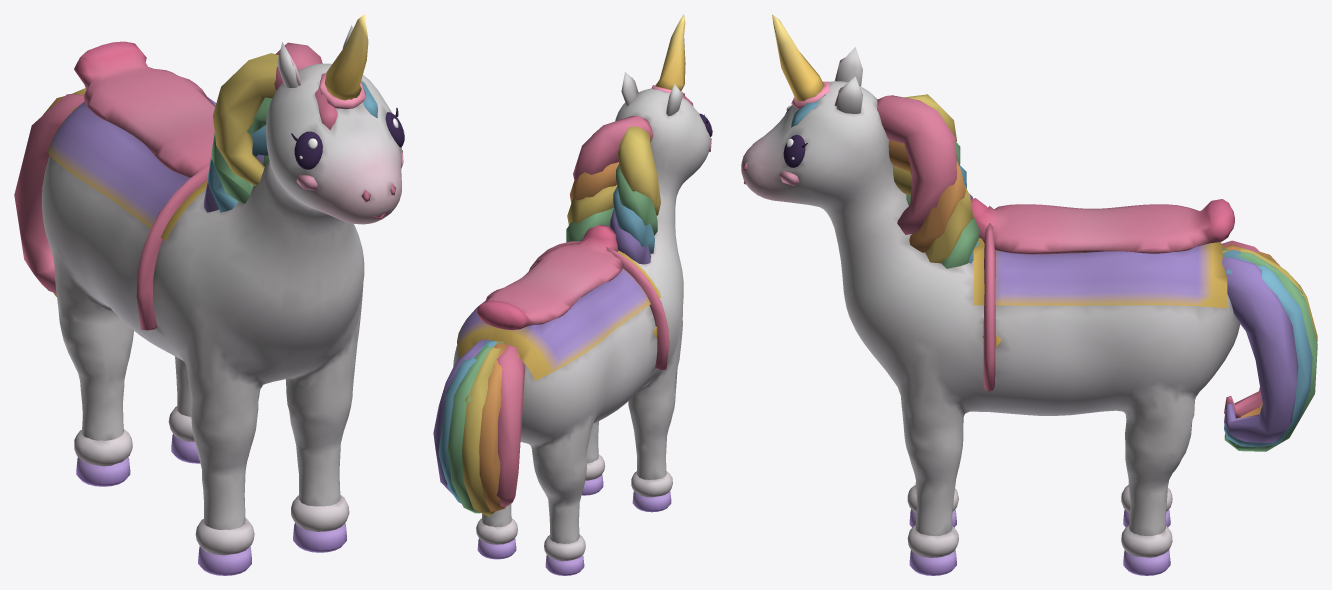
Rendered from veh_unicorn.glb.
The picture shows the model from 3 angles, left to right: view 1: azimuth 30°, elevation 25°; view 2: azimuth 150°, elevation 25°; view 3: azimuth 270°, elevation 25°; orthographic projection. The views are drawn at different scales.
Parts seen in each view (by area): view 1: SM_veh_unicorn_bob, SM_veh_unicorn_bob_cloth, SM_veh_unicorn_mane_0, SM_veh_unicorn_tail_0, SM_veh_unicorn_head_metal, SM_veh_unicorn_head, SM_veh_unicorn_knee_2, SM_veh_unicorn_knee_0, SM_veh_unicorn_knee_1, SM_veh_unicorn_mane_1, SM_veh_unicorn_head_gloss_eyes, SM_veh_unicorn_knee_2_gloss (+6 smaller); view 2: SM_veh_unicorn_bob, SM_veh_unicorn_bob_cloth, SM_veh_unicorn_mane_0, SM_veh_unicorn_tail_0, SM_veh_unicorn_tail_2, SM_veh_unicorn_tail_1, SM_veh_unicorn_tail_3, SM_veh_unicorn_mane_1, SM_veh_unicorn_mane_2, SM_veh_unicorn_mane_3, SM_veh_unicorn_tail_4, SM_veh_unicorn_head_metal (+8 smaller); view 3: SM_veh_unicorn_bob, SM_veh_unicorn_bob_cloth, SM_veh_unicorn_tail_5, SM_veh_unicorn_mane_0, SM_veh_unicorn_tail_4, SM_veh_unicorn_mane_1, SM_veh_unicorn_head, SM_veh_unicorn_head_metal, SM_veh_unicorn_mane_2, SM_veh_unicorn_tail_3, SM_veh_unicorn_knee_3, SM_veh_unicorn_knee_1 (+4 smaller).
Boxes of the visible parts, x1,y1,x2,y2 form: SM_veh_unicorn_bob: (42, 63, 401, 529); SM_veh_unicorn_bob_cloth: (47, 41, 216, 241); SM_veh_unicorn_mane_0: (213, 42, 322, 186); SM_veh_unicorn_tail_0: (14, 94, 84, 293); SM_veh_unicorn_head_metal: (324, 14, 368, 100); SM_veh_unicorn_head: (277, 25, 403, 219); SM_veh_unicorn_knee_2: (74, 429, 132, 466); SM_veh_unicorn_knee_0: (195, 518, 254, 555); SM_veh_unicorn_knee_1: (291, 495, 349, 531); SM_veh_unicorn_mane_1: (211, 97, 271, 203); SM_veh_unicorn_head_gloss_eyes: (291, 108, 404, 169); SM_veh_unicorn_knee_2_gloss: (76, 457, 130, 486); SM_veh_unicorn_bob: (453, 88, 710, 543); SM_veh_unicorn_bob_cloth: (457, 224, 661, 380); SM_veh_unicorn_mane_0: (573, 116, 660, 215); SM_veh_unicorn_tail_0: (496, 345, 524, 507); SM_veh_unicorn_tail_2: (462, 340, 500, 516); SM_veh_unicorn_tail_1: (479, 343, 519, 511); SM_veh_unicorn_tail_3: (447, 341, 503, 513); SM_veh_unicorn_mane_1: (570, 162, 657, 235); SM_veh_unicorn_mane_2: (567, 185, 654, 253); SM_veh_unicorn_mane_3: (566, 207, 650, 264); SM_veh_unicorn_tail_4: (438, 340, 496, 503); SM_veh_unicorn_head_metal: (655, 14, 685, 90); SM_veh_unicorn_bob: (741, 81, 1240, 535); SM_veh_unicorn_bob_cloth: (970, 198, 1234, 308); SM_veh_unicorn_tail_5: (1222, 257, 1298, 443); SM_veh_unicorn_mane_0: (877, 94, 956, 234); SM_veh_unicorn_tail_4: (1223, 250, 1312, 447); SM_veh_unicorn_mane_1: (888, 140, 965, 252); SM_veh_unicorn_head: (743, 47, 862, 185); SM_veh_unicorn_head_metal: (772, 14, 824, 101); SM_veh_unicorn_mane_2: (893, 165, 973, 263); SM_veh_unicorn_tail_3: (1222, 248, 1317, 451); SM_veh_unicorn_knee_3: (1121, 525, 1172, 557); SM_veh_unicorn_knee_1: (907, 525, 958, 557).
Bounding box in the file's own units: 0.7878 × 2.2 × 2.16.
